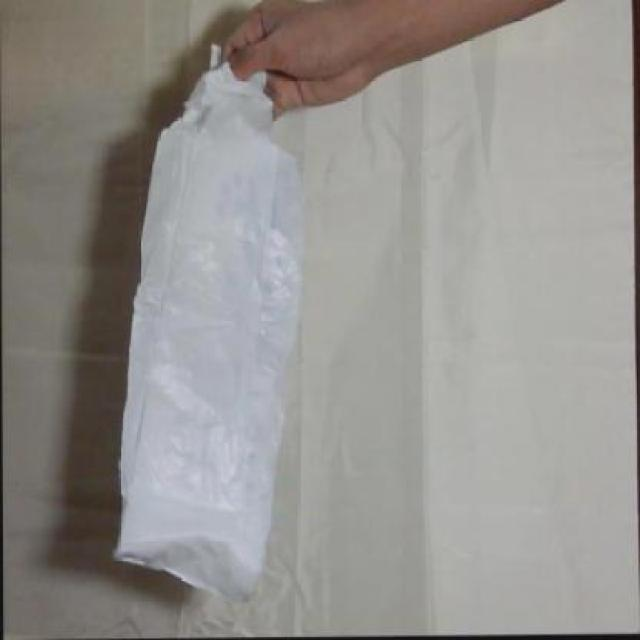Plastic: (114, 50, 326, 609)
